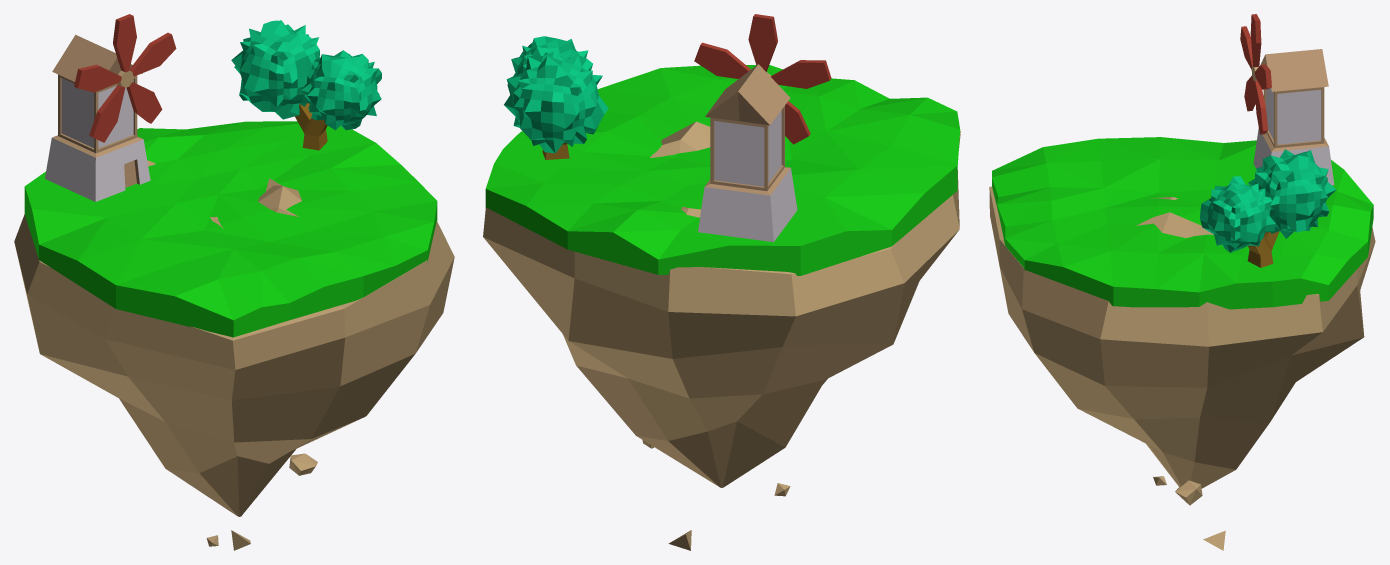
File: land_mill.fbx
3 views of the same model, side by side, from view 1: azimuth 30°, elevation 25°; view 2: azimuth 150°, elevation 25°; view 3: azimuth 270°, elevation 25° (orthographic). The views are drawn at different scales.
Parts seen in each view (by area): view 1: Green_platform, Island, Tree, Mill, propeller; view 2: Island, Green_platform, Mill, Tree, propeller; view 3: Island, Green_platform, Tree, Mill, propeller.
Part boxes in pixels (x1=…): Green_platform: x1=24, y1=121, x2=437, y2=337; Island: x1=14, y1=160, x2=454, y2=550; Tree: x1=231, y1=20, x2=381, y2=150; Mill: x1=45, y1=34, x2=150, y2=201; propeller: x1=74, y1=14, x2=176, y2=142; Island: x1=483, y1=121, x2=960, y2=550; Green_platform: x1=485, y1=65, x2=960, y2=275; Mill: x1=698, y1=64, x2=797, y2=242; Tree: x1=504, y1=36, x2=608, y2=159; propeller: x1=694, y1=14, x2=831, y2=144; Island: x1=989, y1=186, x2=1375, y2=550; Green_platform: x1=992, y1=137, x2=1373, y2=309; Tree: x1=1200, y1=149, x2=1336, y2=267; Mill: x1=1253, y1=49, x2=1334, y2=185; propeller: x1=1240, y1=14, x2=1271, y2=134.
Bounding box in the file's own units: 14.37 × 19.72 × 14.09.
